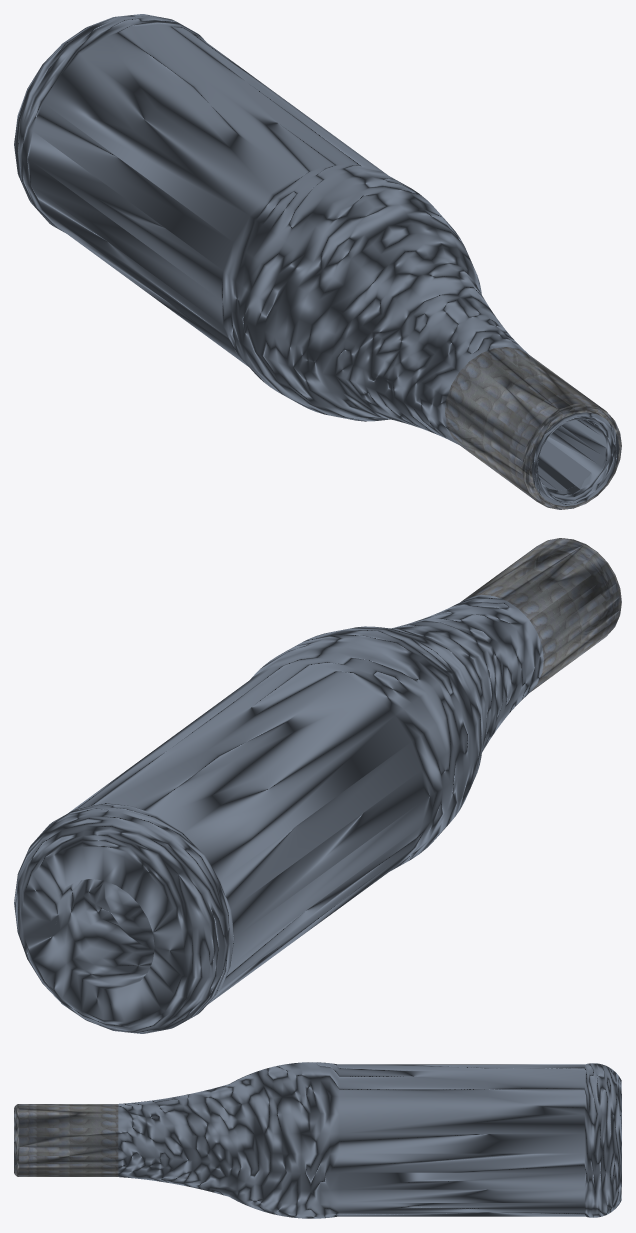
Rendered from model_align.obj.
The picture shows the model from 3 angles, top to bottom: view 1: azimuth 30°, elevation 25°; view 2: azimuth 150°, elevation 25°; view 3: azimuth 270°, elevation 25°; orthographic projection. The views are drawn at different scales.
Bounding box in the file's own units: 0.057 × 0.057 × 0.2204.
